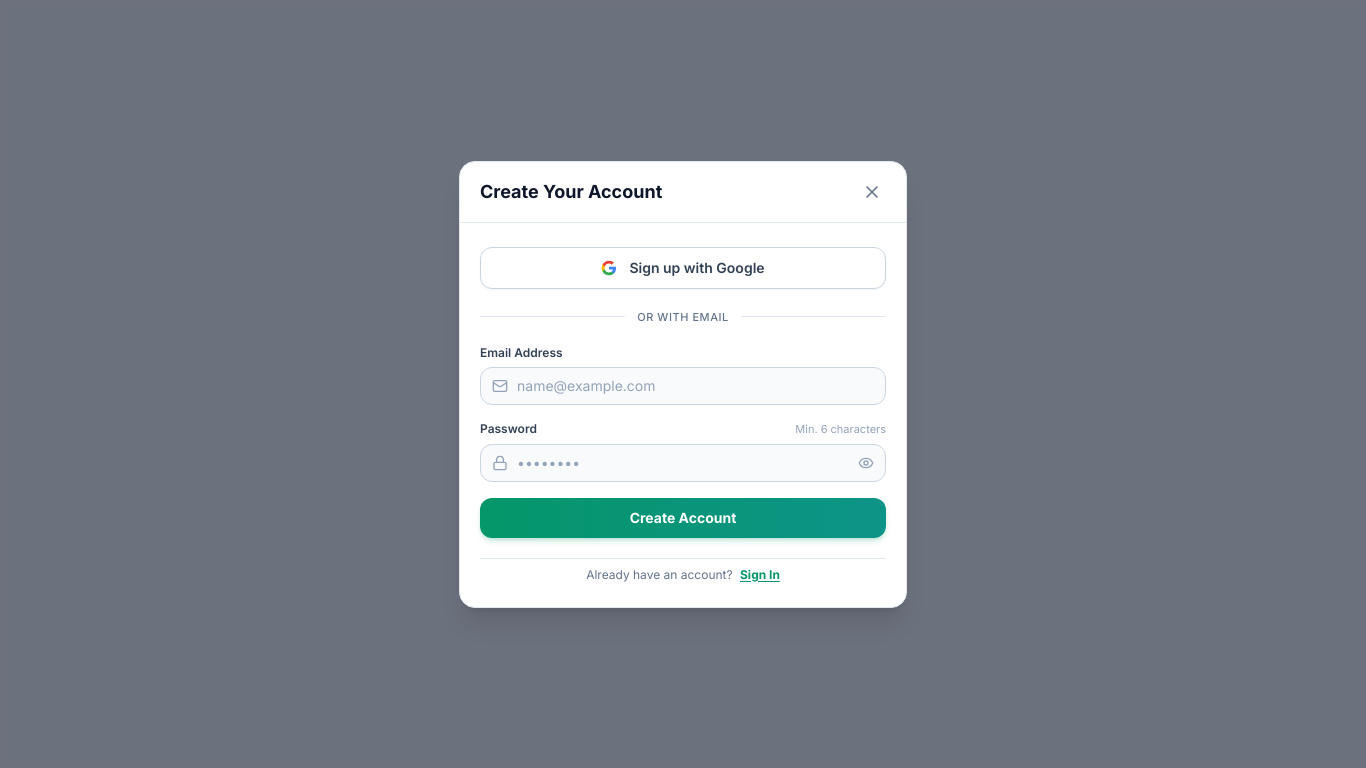
it: Phase 7.4 Authentication UI & Navigation Integration › 2. AuthModal Component › displays validation error when password is under 6 characters during signup
Type "newuser@breathewise.ai" into the field with test id "auth-email-input" at (683, 386), box x1=480 y1=367 x2=886 y2=405
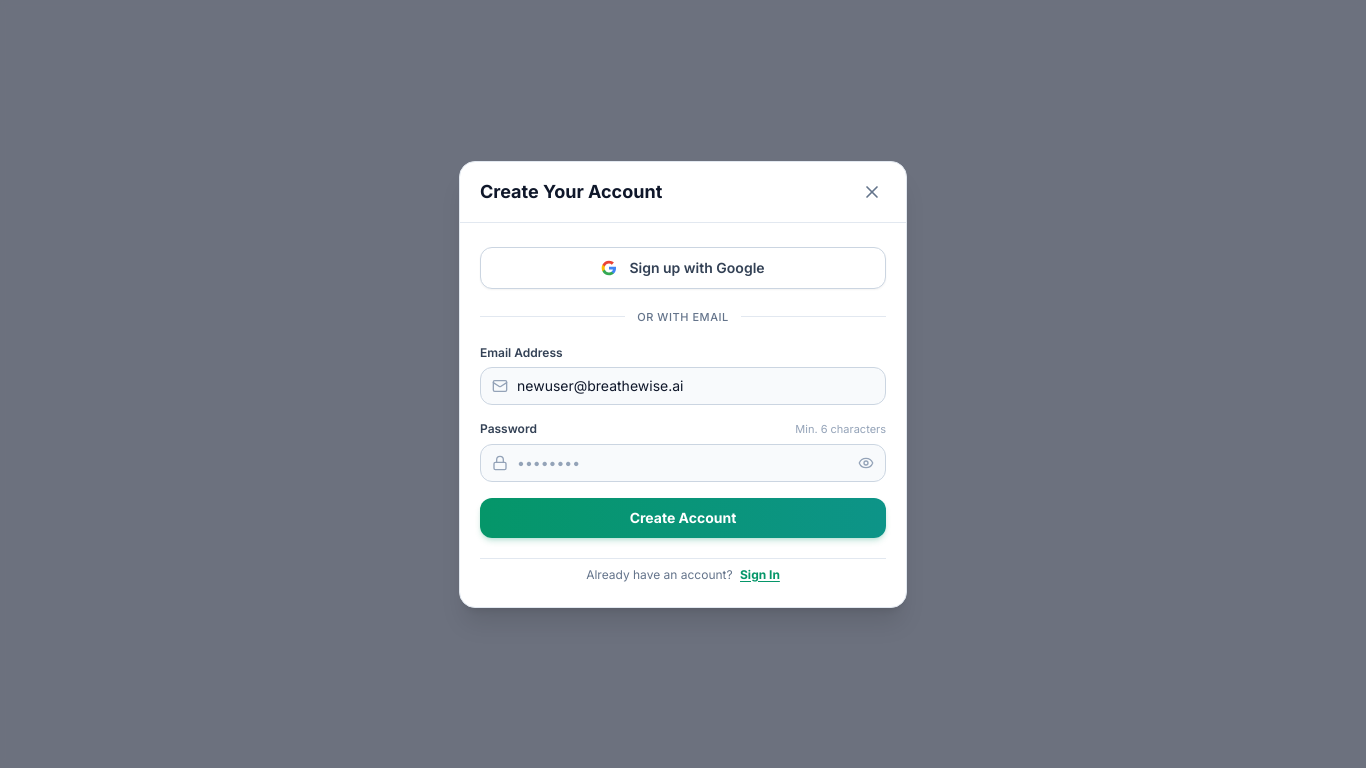
Type "123" into the password field with test id "auth-password-input" at (683, 462), box x1=480 y1=444 x2=886 y2=482
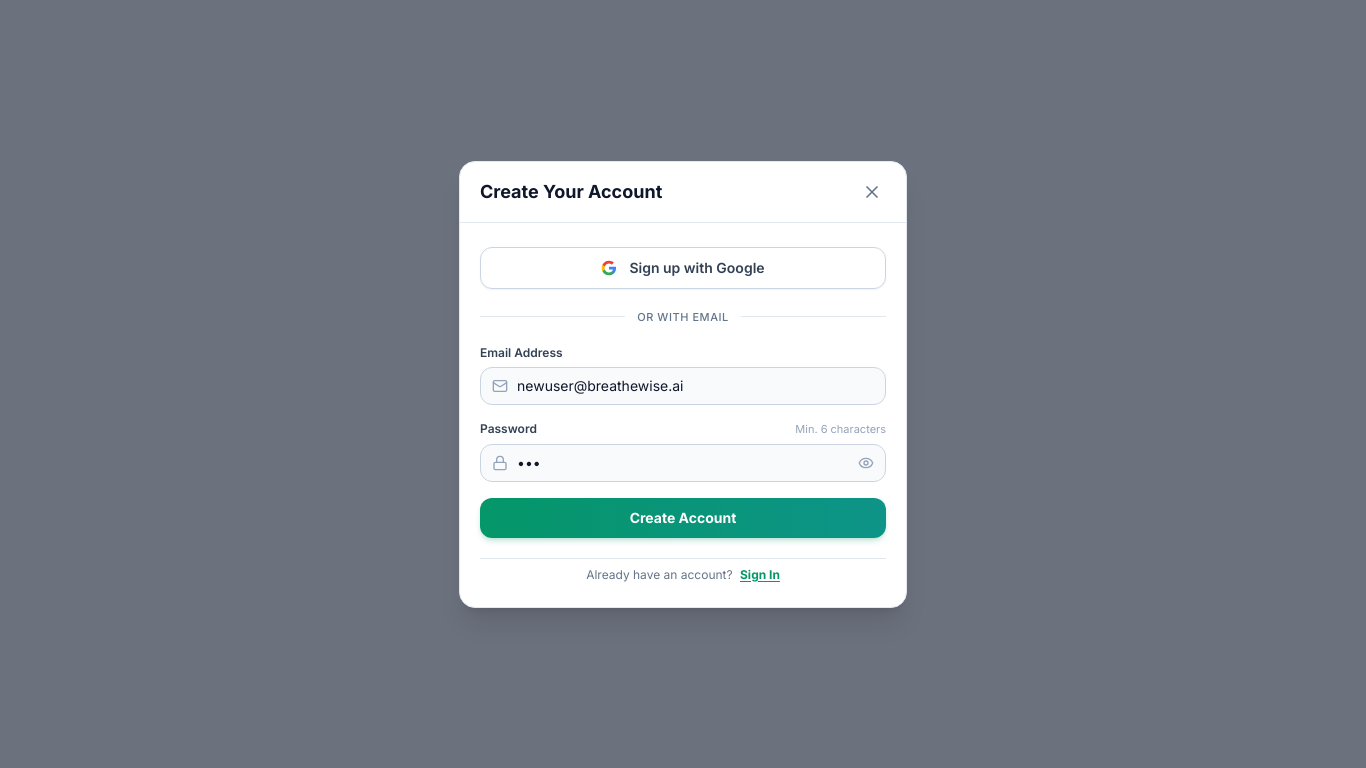
Click the button with test id "auth-submit-btn" at (683, 518), box x1=480 y1=498 x2=886 y2=538
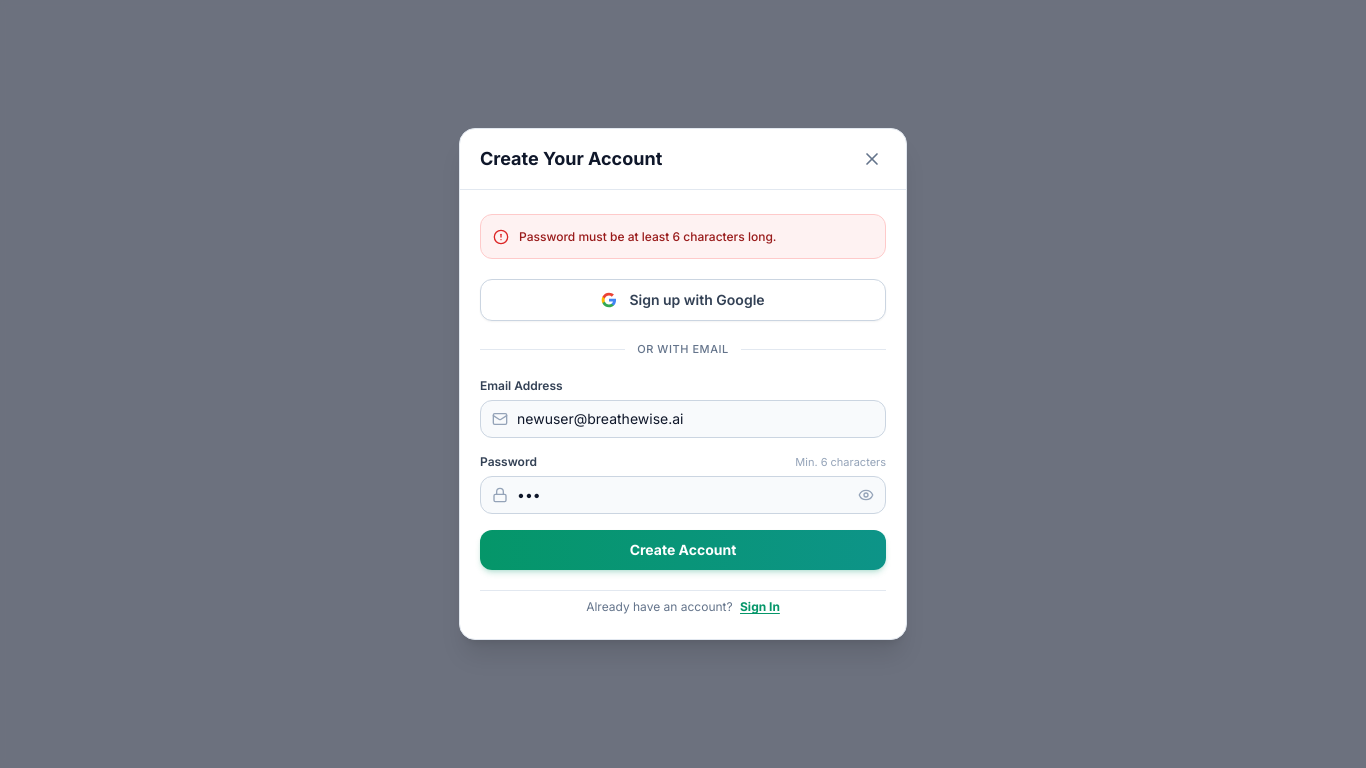
Result: the message with test id "auth-error-banner" reads "Password must be at least 6 characters long." at x1=519 y1=229 x2=776 y2=244
